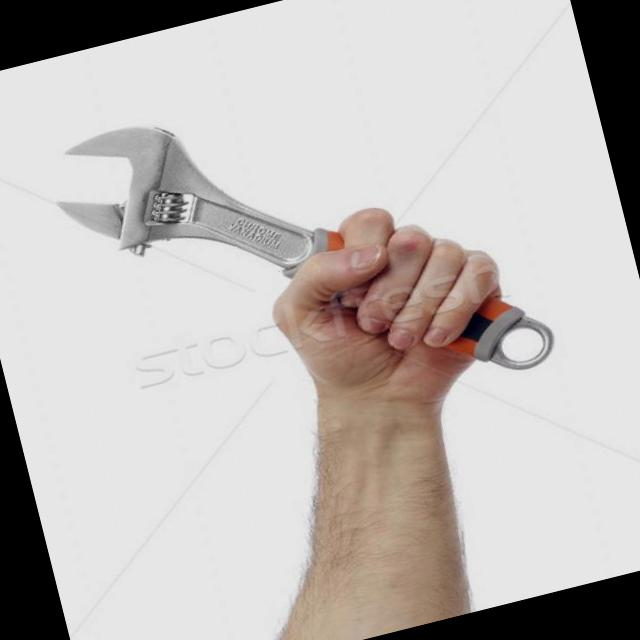wrench: (58, 127, 342, 276), (449, 297, 551, 369)
